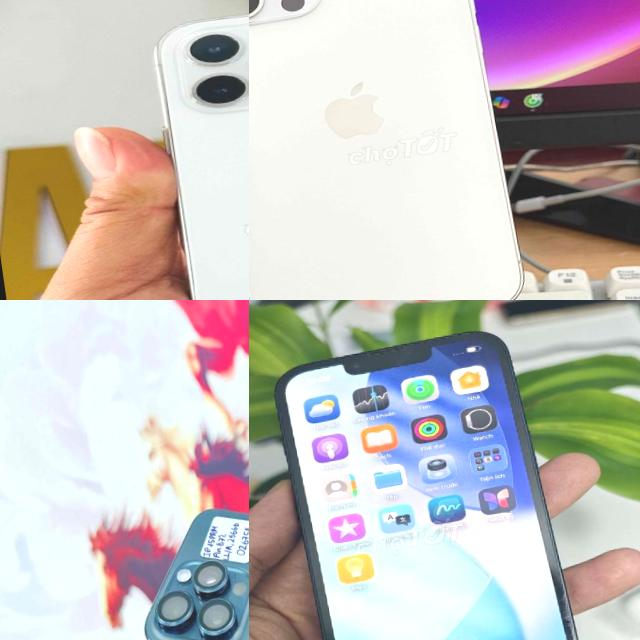gen_12_13: (270, 319, 602, 640), (249, 0, 537, 300), (130, 0, 249, 300)
gen_15: (125, 456, 249, 640)
